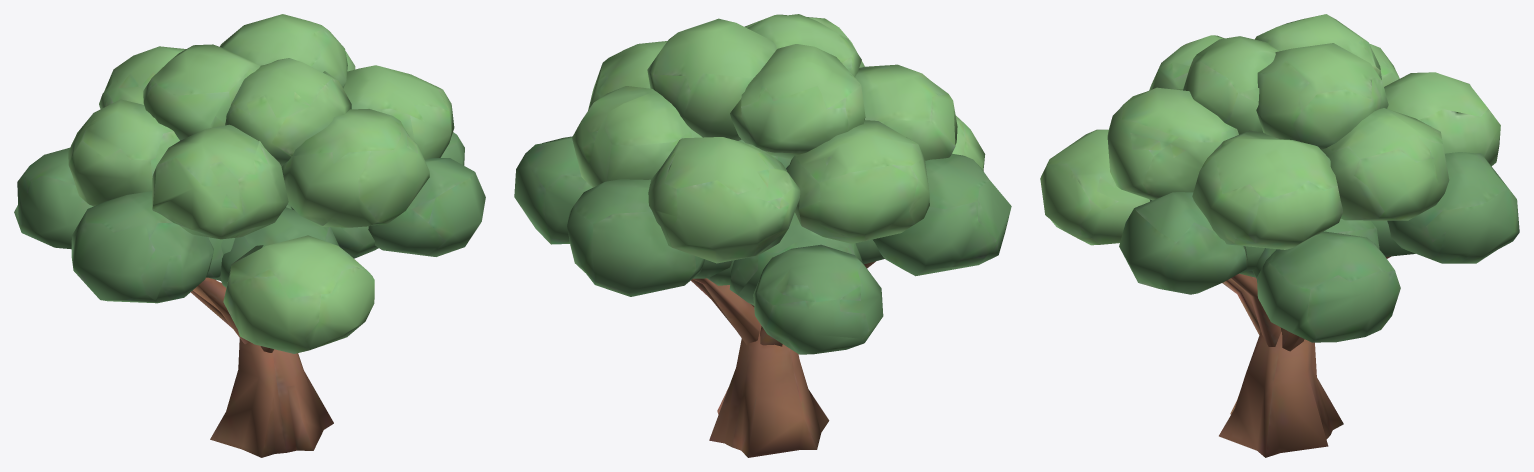
File: oak-tree.glb
The picture shows the model from 3 angles, left to right: view 1: azimuth 30°, elevation 25°; view 2: azimuth 150°, elevation 25°; view 3: azimuth 270°, elevation 25°; orthographic projection. The views are drawn at different scales.
Parts seen in each view (by area): view 1: oak-tree_body; view 2: oak-tree_body; view 3: oak-tree_body.
Part boxes in pixels (box(x1,y1,x2,y2)): oak-tree_body: box(14, 14, 485, 457); oak-tree_body: box(514, 14, 1011, 457); oak-tree_body: box(1040, 14, 1519, 457).
Size of the model in its own units: 7.63 by 6.85 by 7.51.
Materials: 1 (1 with a texture image).
